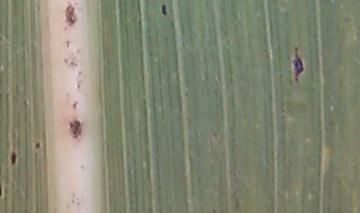tarspot: (291, 44, 305, 83), (63, 1, 78, 26), (67, 118, 83, 140), (159, 3, 169, 18), (10, 150, 17, 165), (33, 140, 41, 150), (71, 100, 78, 111), (64, 39, 71, 49), (61, 57, 69, 65), (36, 3, 43, 12), (342, 16, 349, 24), (62, 26, 70, 33), (75, 82, 81, 90), (73, 62, 79, 69), (76, 70, 83, 75), (1, 182, 3, 197)
